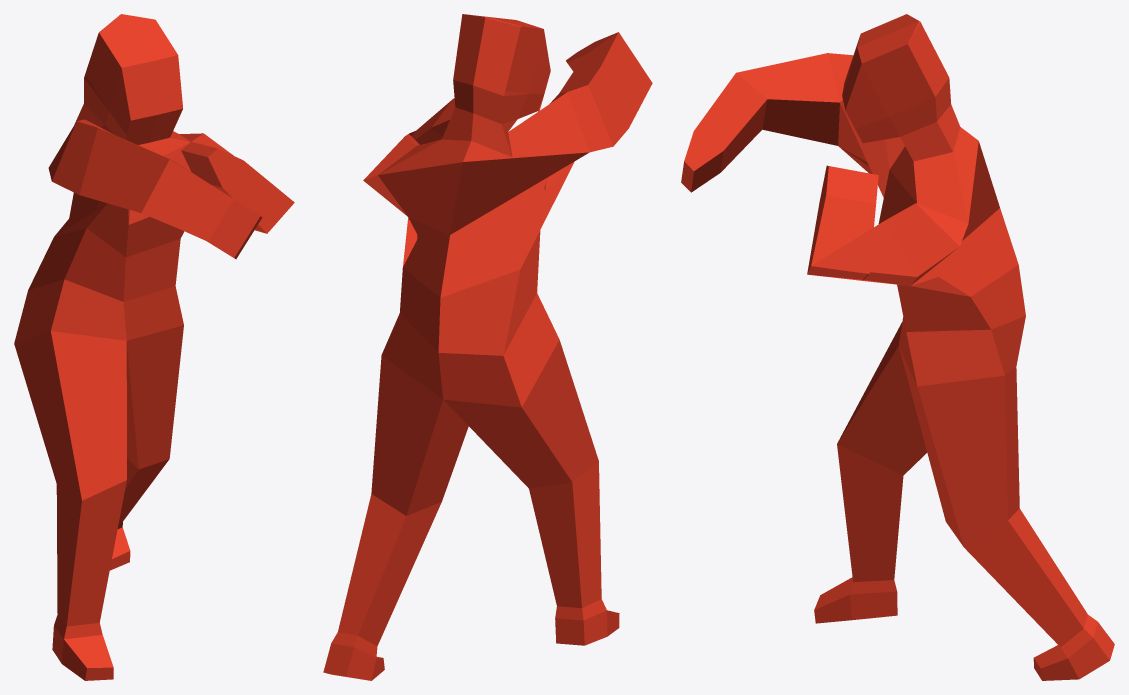
The model's file is Player_Right_Overhead.fbx.
The picture shows the model from 3 angles, left to right: view 1: azimuth 30°, elevation 25°; view 2: azimuth 150°, elevation 25°; view 3: azimuth 270°, elevation 25°; orthographic projection. The views are drawn at different scales.
Parts seen in each view (by area): view 1: Person; view 2: Person; view 3: Person.
Boxes of the visible parts, <box> form: Person: <box>14,14,294,680</box>; Person: <box>323,14,652,680</box>; Person: <box>681,14,1114,680</box>.
Size of the model in its own units: 309 by 833 by 518.
